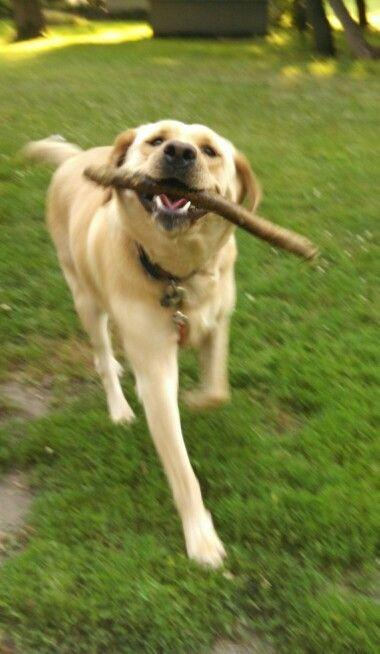adult_dog: (21, 117, 264, 570)
